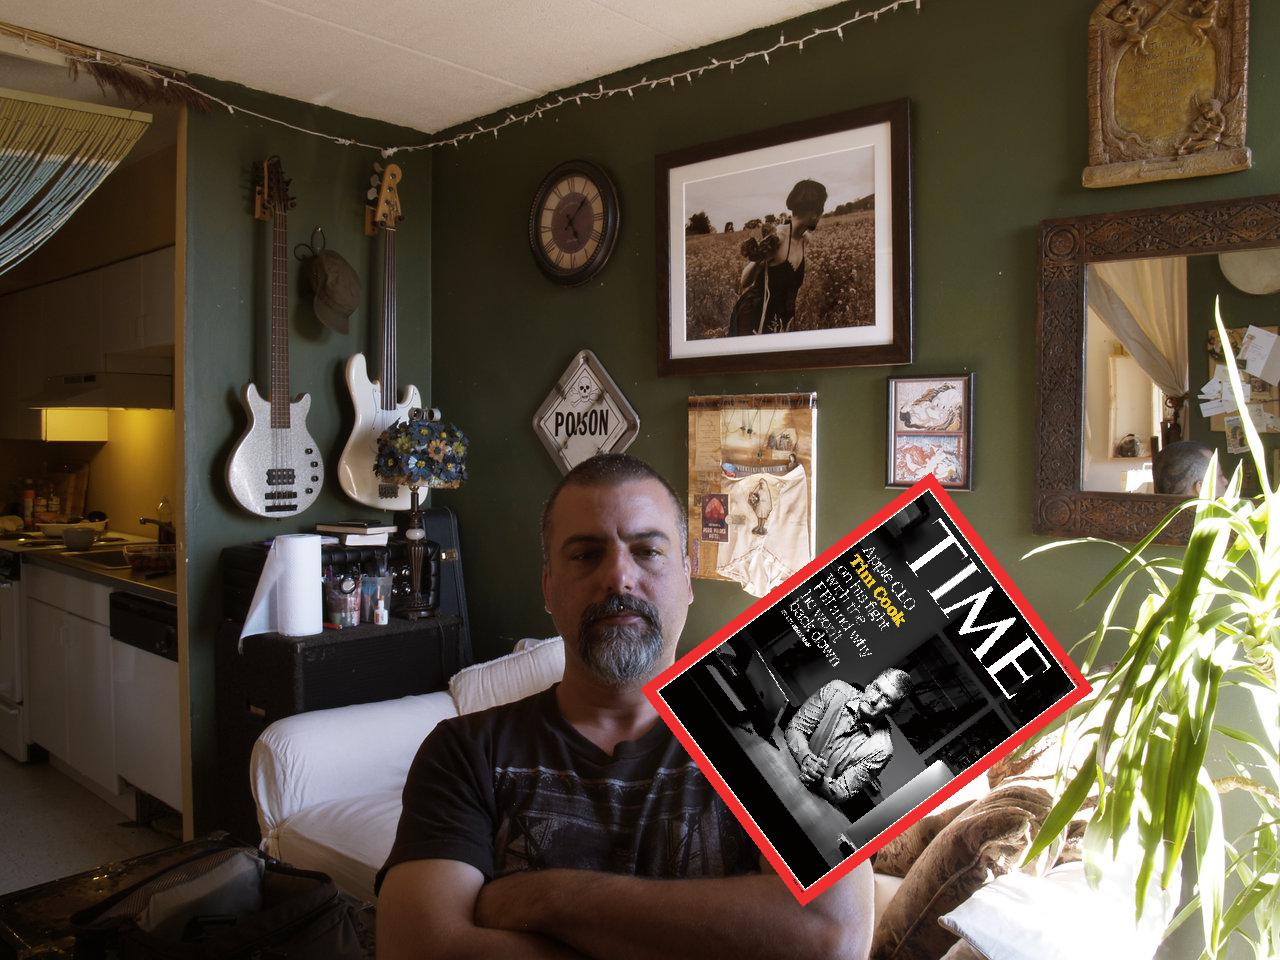times: (631, 473, 1092, 906)
